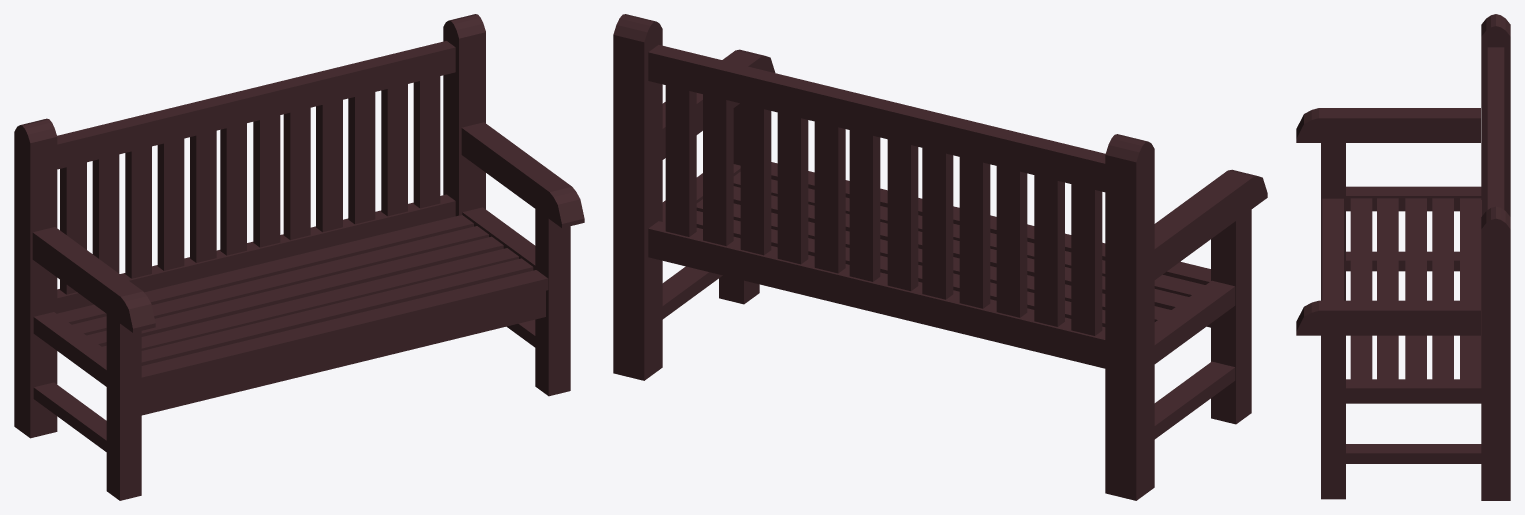
The model's file is bench.glb.
3 views of the same model, side by side, from view 1: azimuth 30°, elevation 25°; view 2: azimuth 150°, elevation 25°; view 3: azimuth 270°, elevation 25° (orthographic). The views are drawn at different scales.
Parts seen in each view (by area): view 1: Cube; view 2: Cube; view 3: Cube.
Boxes of the visible parts, box(x1,y1,x2,y2) form: Cube: box(14, 14, 584, 500); Cube: box(613, 14, 1267, 500); Cube: box(1296, 14, 1510, 500).
Size of the model in its own units: 1.96 by 1.26 by 0.8684.
